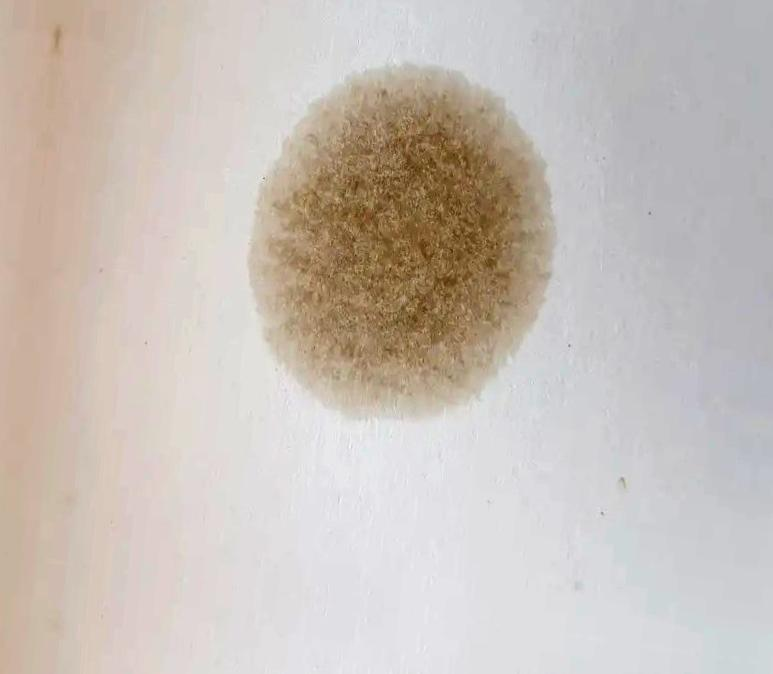stain: (240, 54, 568, 424)
